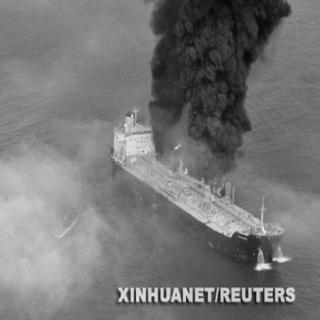Fire: (206, 174, 224, 196)
